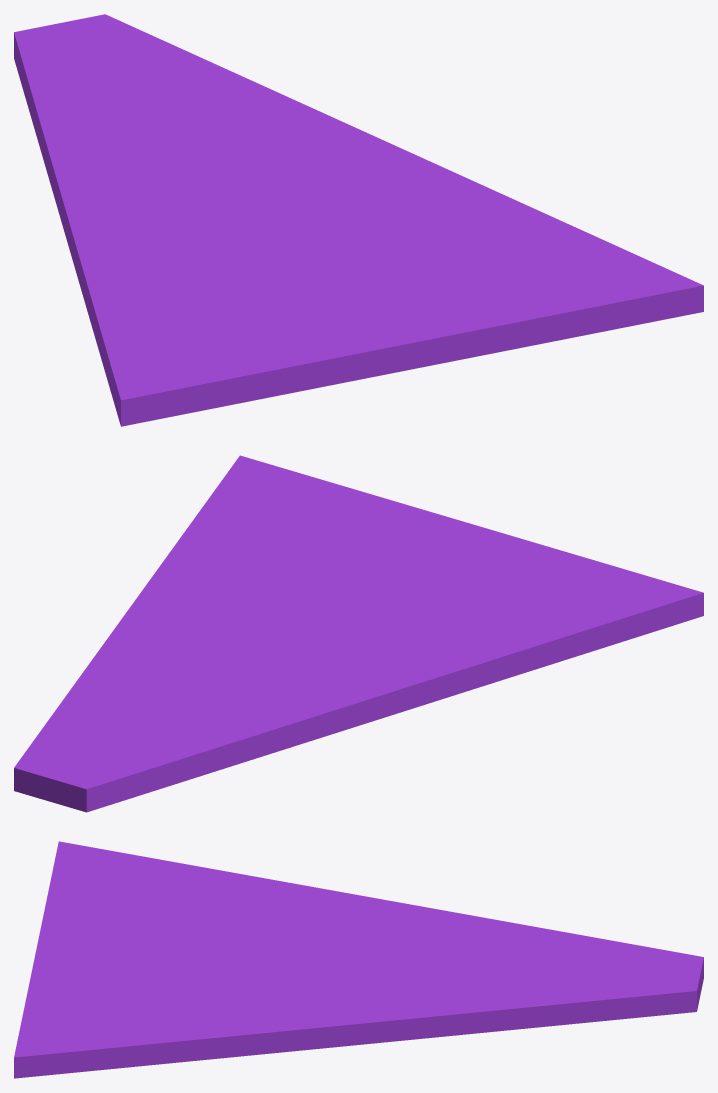
File: StairsStep_23_chunks.fbx
3 renders of one model, top to bottom at view 1: azimuth 30°, elevation 25°; view 2: azimuth 150°, elevation 25°; view 3: azimuth 270°, elevation 25°, orthographic. The views are drawn at different scales.
Visible parts, largest first — view 1: StairsStep_23_2, StairsStep_23_0, StairsStep_23_1, StairsStep_23_3; view 2: StairsStep_23_2, StairsStep_23_0, StairsStep_23_1, StairsStep_23_3; view 3: StairsStep_23_2, StairsStep_23_1, StairsStep_23_0, StairsStep_23_3.
Part boxes in pixels (<box>): StairsStep_23_2: <box>150,150,703,420</box>; StairsStep_23_0: <box>33,101,232,426</box>; StairsStep_23_1: <box>14,14,404,159</box>; StairsStep_23_3: <box>27,79,349,188</box>; StairsStep_23_2: <box>127,455,680,649</box>; StairsStep_23_0: <box>198,586,703,773</box>; StairsStep_23_1: <box>14,611,208,812</box>; StairsStep_23_3: <box>164,625,271,764</box>; StairsStep_23_2: <box>14,852,360,1078</box>; StairsStep_23_1: <box>343,942,703,1046</box>; StairsStep_23_0: <box>56,841,581,958</box>; StairsStep_23_3: <box>360,935,621,1003</box>.
Bounding box in the file's own units: 395 × 17.94 × 533.
